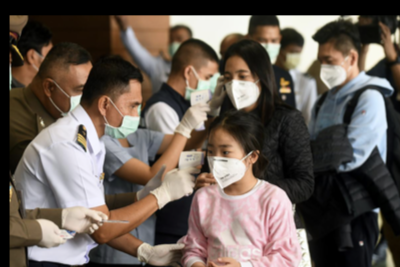with_mask: (208, 141, 248, 189), (223, 66, 261, 111), (56, 76, 90, 118), (111, 98, 142, 140), (320, 52, 348, 87), (190, 69, 217, 101), (254, 34, 282, 61), (281, 48, 301, 70)
